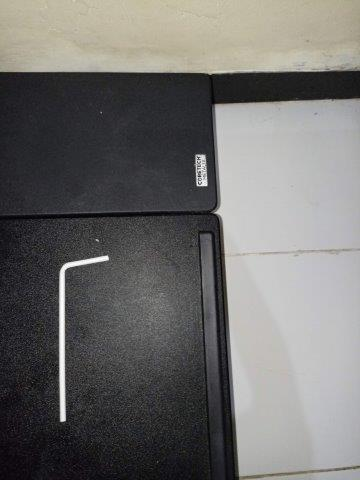sedotan: (58, 256, 108, 421)
